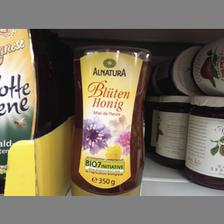Honig: (66, 44, 150, 196)
